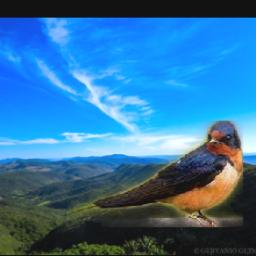Swallow: (66, 122, 243, 228)
